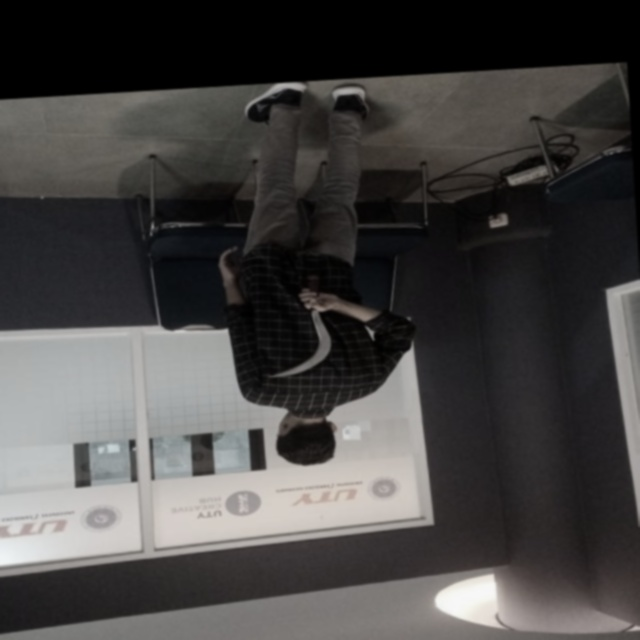Sharp-Object: (257, 280, 353, 384)
